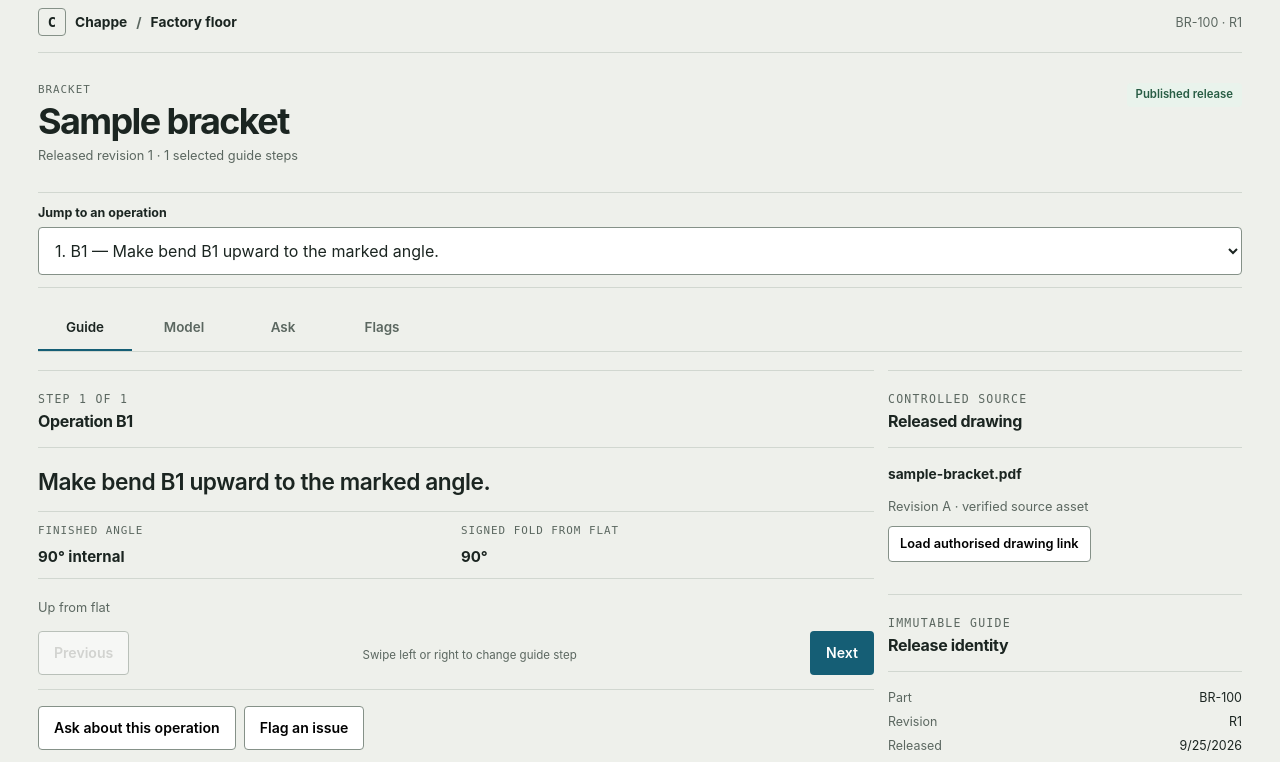
Test: release-bound factory floor › asks against the current published bend and shows the returned grounded answer
The width and height of the screenshot is (1280, 762).
Expected: the heading "Sample bracket" is shown, [38,101,298,141]
Click the tab "Ask". click: [283, 328]
box: [236,306,330,350]
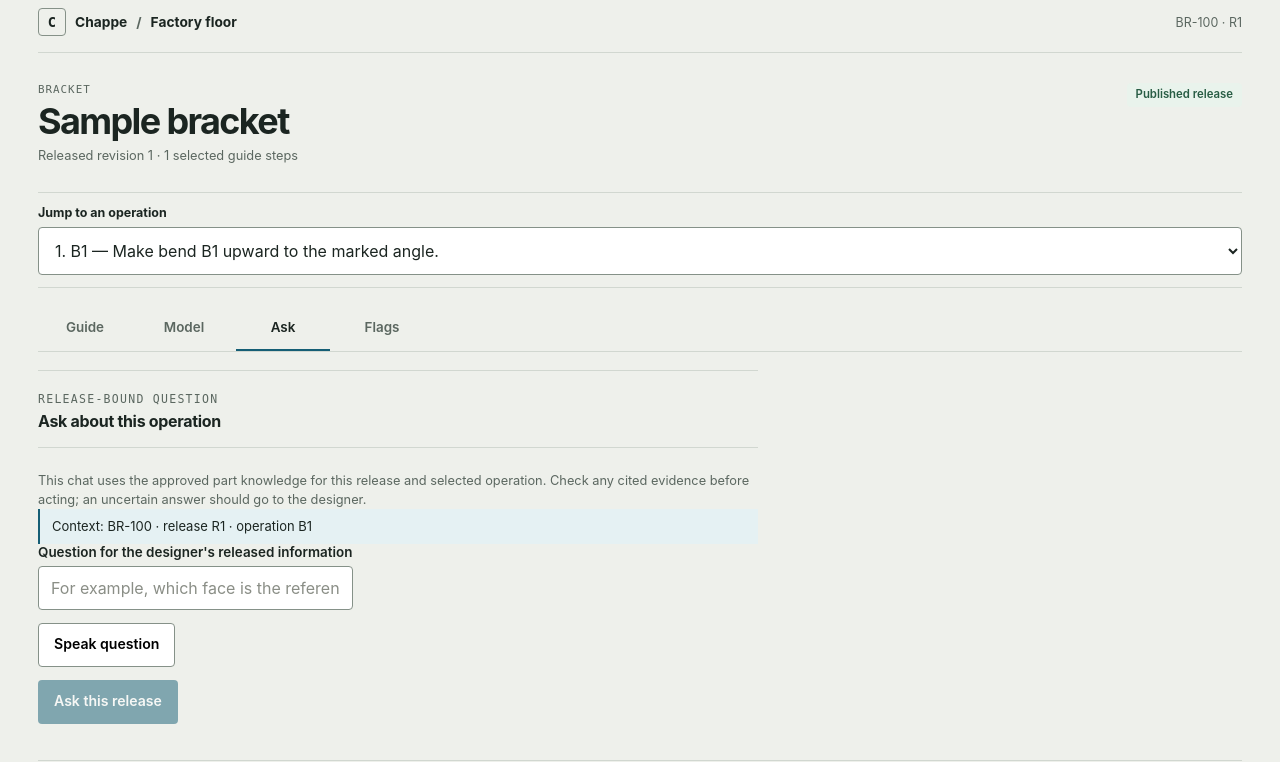
Type "Which face is the reference side?" into the field labelled "Question for the designer's released information". click: [195, 588]
box: [38,566,352,610]
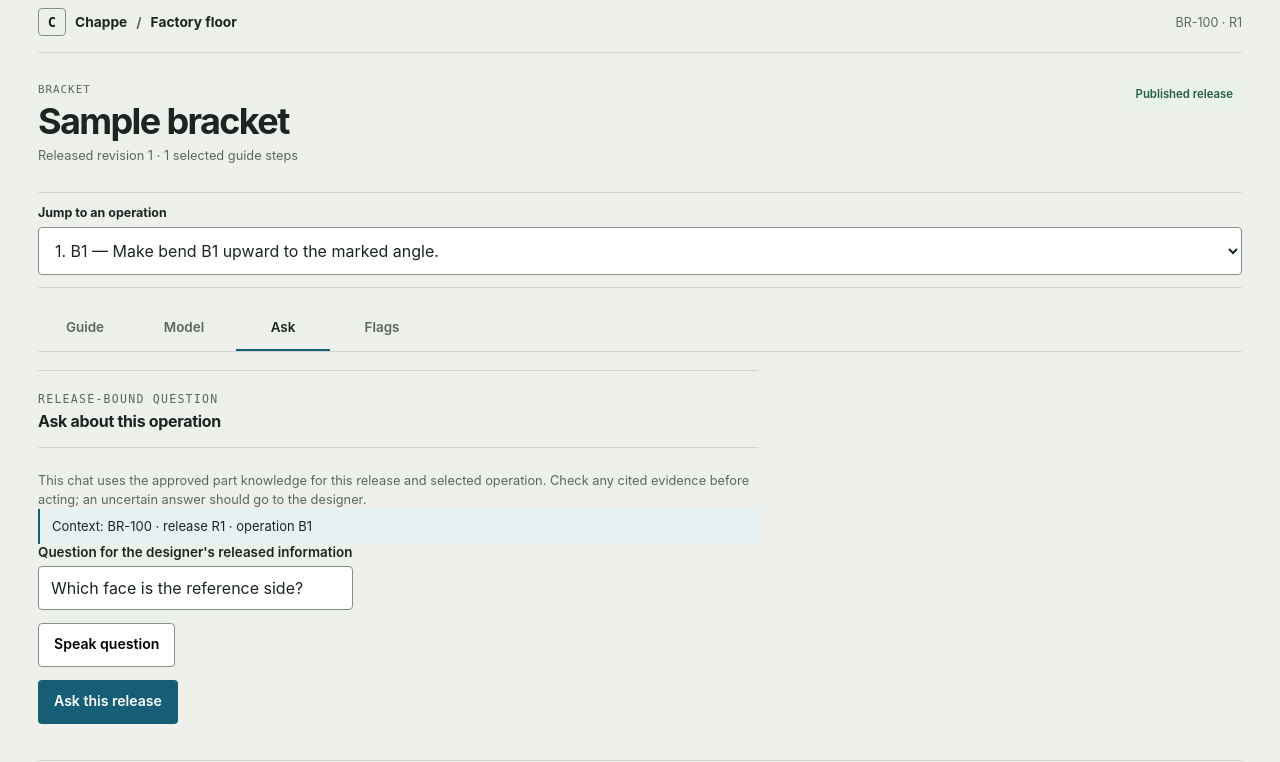
Click the button "Ask this release". click: [108, 702]
box: [38,680,178,724]
(page scrolled)
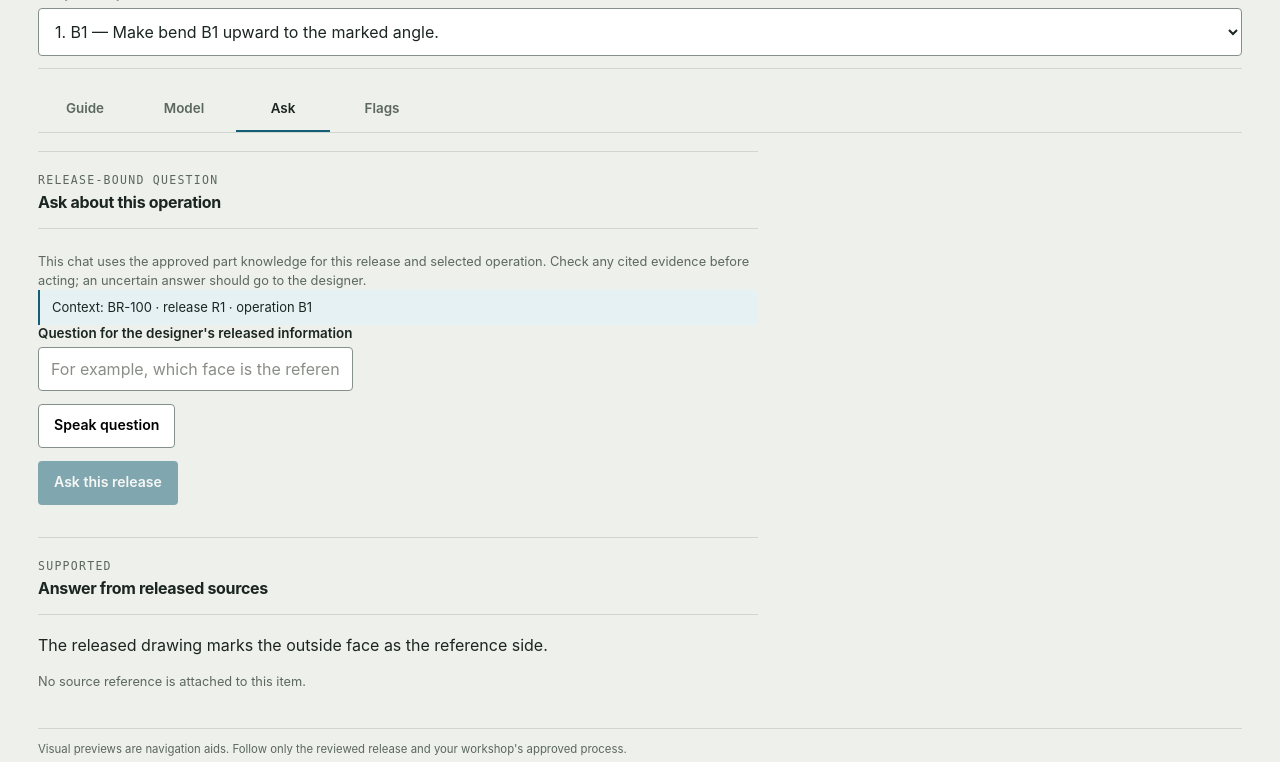
Expected: the text "The released drawing marks the outside face as the reference side." is shown, [38,635,548,655]
